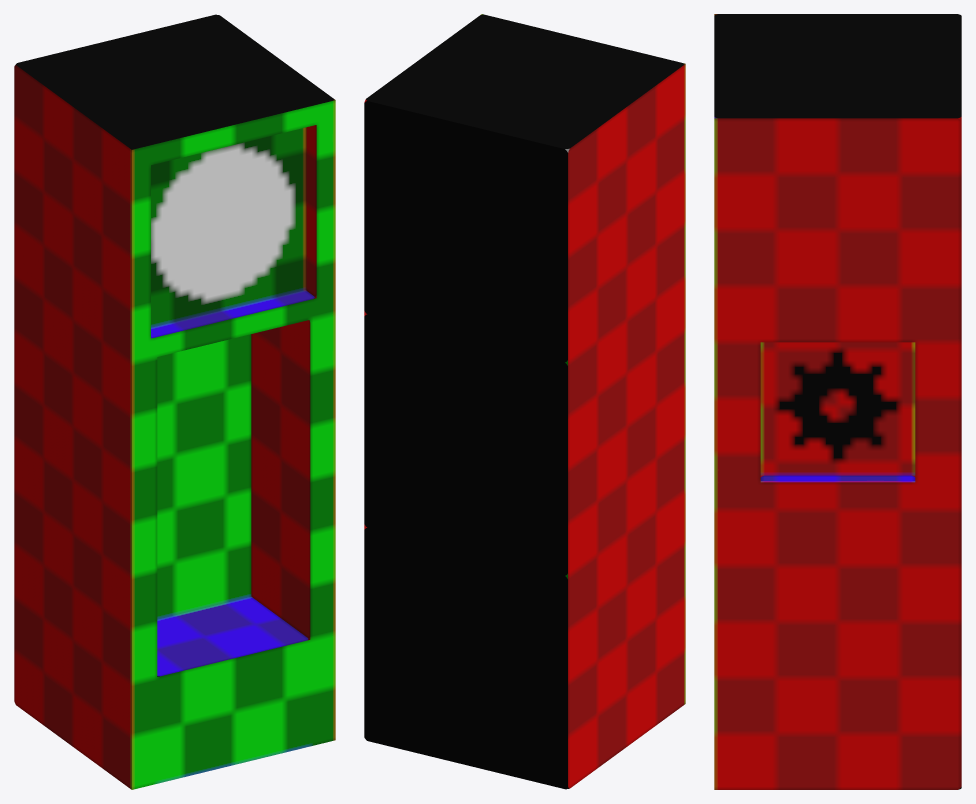
File: Clock.obj
3 views of the same model, side by side, from view 1: azimuth 30°, elevation 25°; view 2: azimuth 150°, elevation 25°; view 3: azimuth 270°, elevation 25° (orthographic). The views are drawn at different scales.
Visible parts, largest first — view 1: Default; view 2: Default; view 3: Default.
Boxes of the visible parts, box(x1,y1,x2,y2) form: Default: box(14, 14, 335, 789); Default: box(364, 14, 685, 789); Default: box(714, 14, 961, 789).
Size of the model in its own units: 0.34 by 0.96 by 0.32.
Materials: 1 (1 with a texture image).
